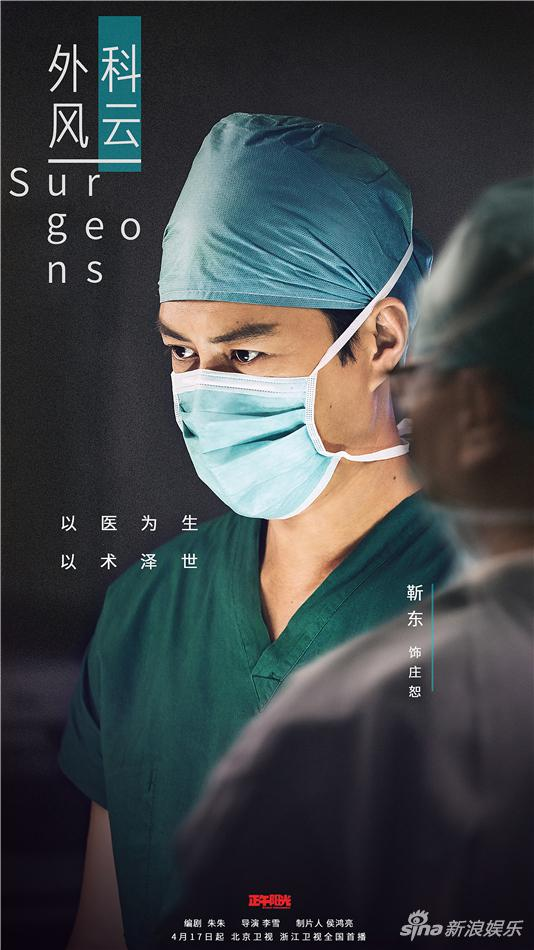face_mask: (157, 239, 341, 522)
